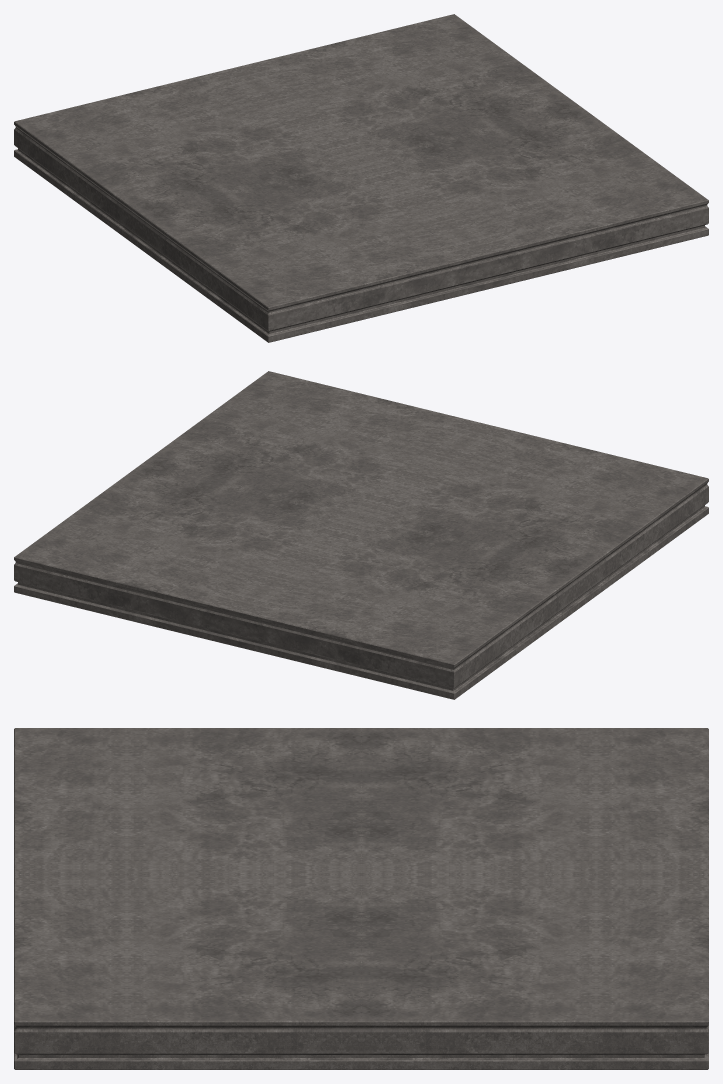
3 views of the same model, one above another, from view 1: azimuth 30°, elevation 25°; view 2: azimuth 150°, elevation 25°; view 3: azimuth 270°, elevation 25° (orthographic). The views are drawn at different scales.
Visible parts, largest first — view 1: SK6 BASE; view 2: SK6 BASE; view 3: SK6 BASE.
Boxes of the visible parts, box(x1,y1,x2,y2) form: SK6 BASE: box(14, 14, 708, 342); SK6 BASE: box(14, 371, 708, 699); SK6 BASE: box(14, 728, 708, 1069).
Size of the model in its own units: 1255 by 97.19 by 1255.
